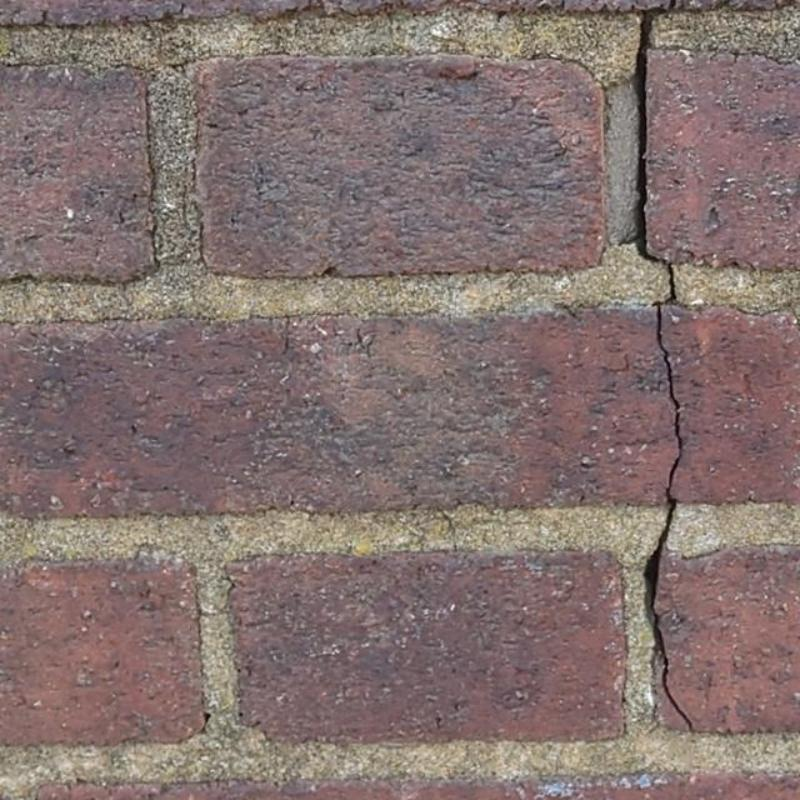pothole: (642, 263, 694, 732), (630, 14, 666, 262)
